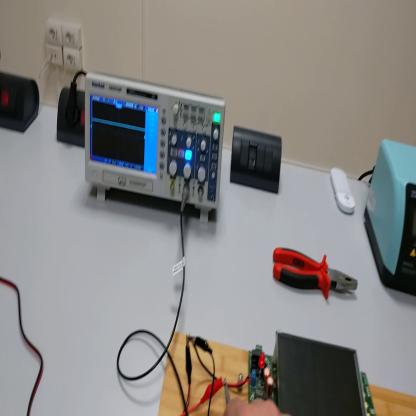hand: (225, 398, 292, 416)
low voltage board: (195, 333, 377, 414), (277, 329, 366, 415)
oscilloscope: (83, 69, 228, 225)
oscilloscope probe tip: (223, 383, 231, 410)
pliers: (274, 245, 362, 304)
socket: (1, 71, 41, 138), (58, 88, 87, 147)
welder station: (365, 141, 416, 298)
working area: (160, 331, 416, 416)
